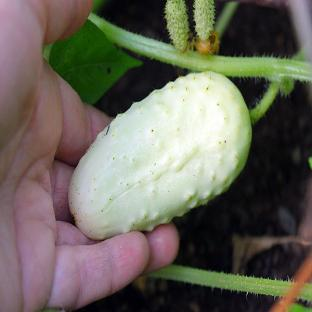Cucumber: (69, 72, 251, 239)
